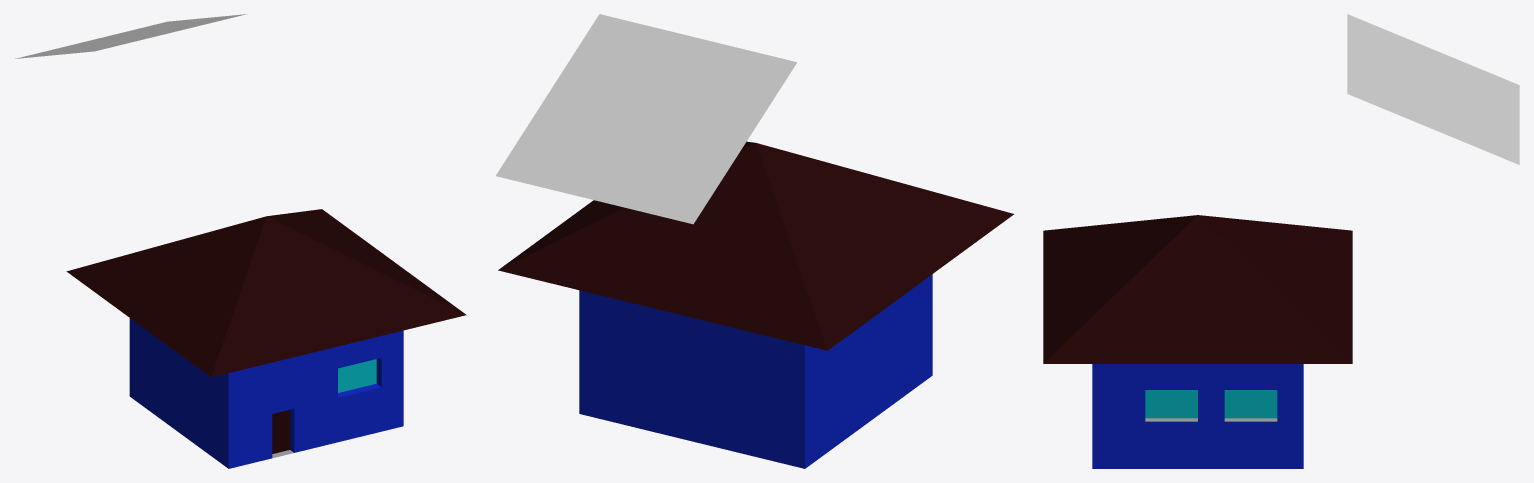
Rendered from Blender_Render_House.obj.
3 renders of one model, left to right at view 1: azimuth 30°, elevation 25°; view 2: azimuth 150°, elevation 25°; view 3: azimuth 270°, elevation 25°, orthographic. The views are drawn at different scales.
Parts seen in each view (by area): view 1: Cube, Plane.001; view 2: Cube, Plane.001; view 3: Cube, Plane.001.
Boxes of the visible parts, left/top/right/bottom form: Cube: left=66, top=209, right=466, bottom=468; Plane.001: left=15, top=14, right=247, bottom=58; Cube: left=498, top=141, right=1013, bottom=468; Plane.001: left=496, top=14, right=796, bottom=224; Cube: left=1043, top=215, right=1352, bottom=468; Plane.001: left=1347, top=14, right=1519, bottom=164.
Size of what is drawn, in the model's own units: 8.15 by 10.17 by 12.31.
